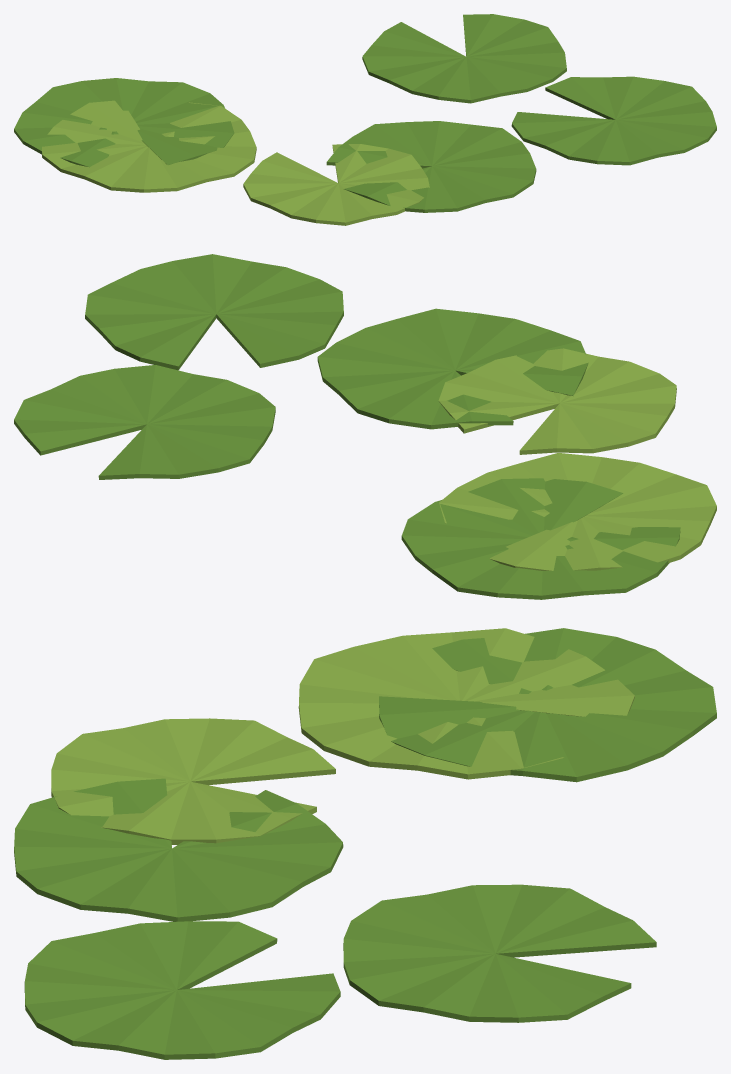
Rendered from shore_lilypad.glb.
The picture shows the model from 3 angles, top to bottom: view 1: azimuth 30°, elevation 25°; view 2: azimuth 150°, elevation 25°; view 3: azimuth 270°, elevation 25°; orthographic projection. The views are drawn at different scales.
Parts seen in each view (by area): view 1: lily_pad, lily_pad_young; view 2: lily_pad, lily_pad_young; view 3: lily_pad, lily_pad_young.
Boxes of the visible parts, box(x1,y1,x2,y2) form: lily_pad: box(14, 14, 716, 212); lily_pad_young: box(42, 100, 429, 225); lily_pad: box(14, 254, 680, 599); lily_pad_young: box(438, 348, 716, 570); lily_pad: box(14, 628, 716, 1059); lily_pad_young: box(51, 628, 634, 844).
Bounding box in the file's own units: 1.76 × 0.018 × 1.23.
